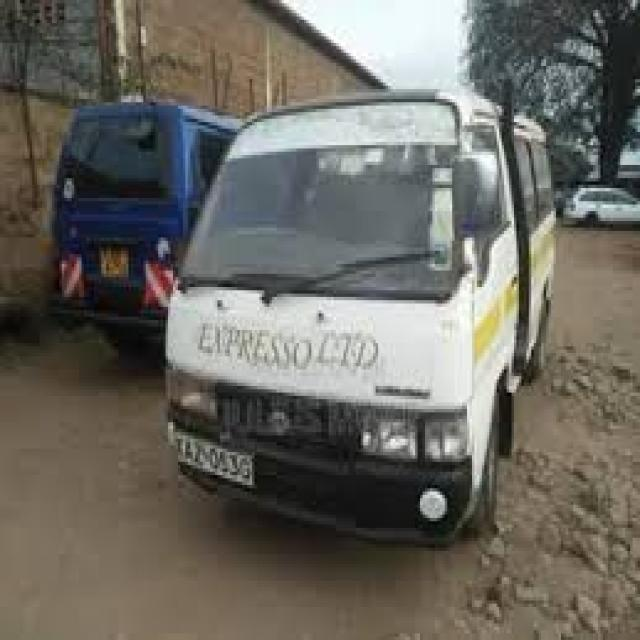matatu: (150, 48, 600, 570)
